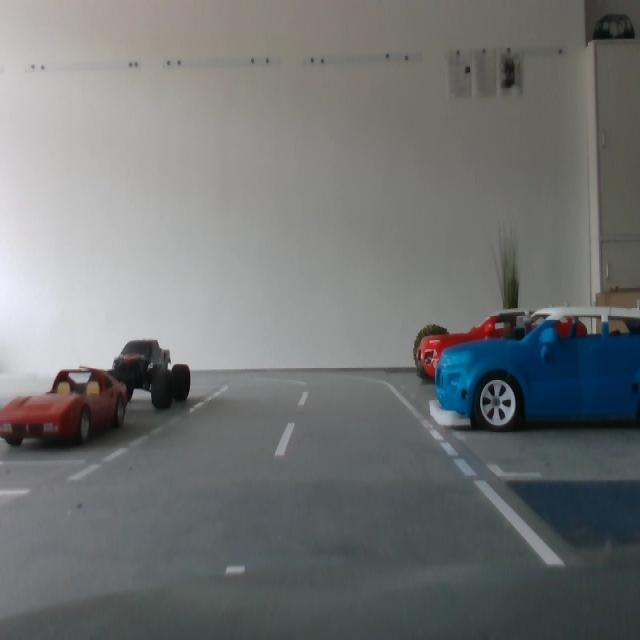car: (435, 305, 640, 432), (1, 366, 129, 448), (417, 308, 532, 380), (109, 338, 191, 409)
potted plant: (491, 230, 523, 368), (413, 322, 453, 379)
